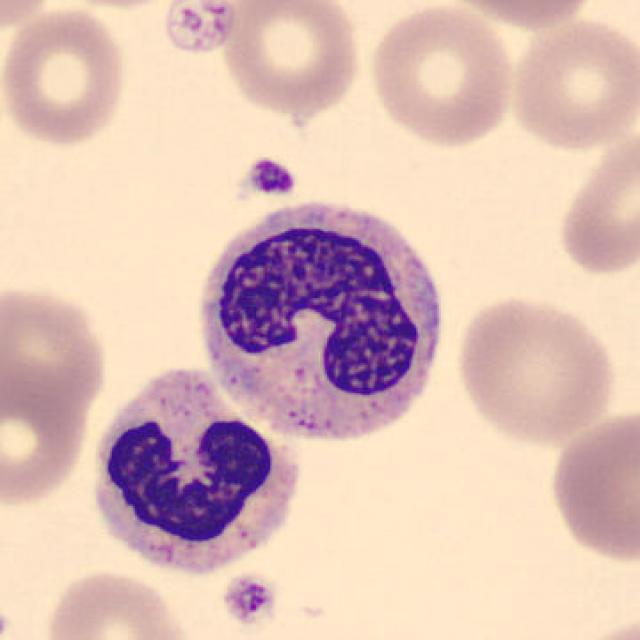Neutrophil: (185, 188, 455, 458), (82, 356, 309, 582)
Platelets: (158, 0, 242, 58), (219, 571, 279, 628), (240, 155, 300, 199)
RBC: (450, 291, 620, 448), (364, 2, 518, 150), (0, 3, 132, 150), (505, 13, 638, 154), (215, 0, 365, 120), (0, 280, 112, 422), (544, 406, 640, 568), (0, 362, 98, 512), (551, 124, 638, 282), (41, 566, 197, 640), (432, 0, 606, 32), (0, 0, 66, 37), (44, 0, 191, 12)
